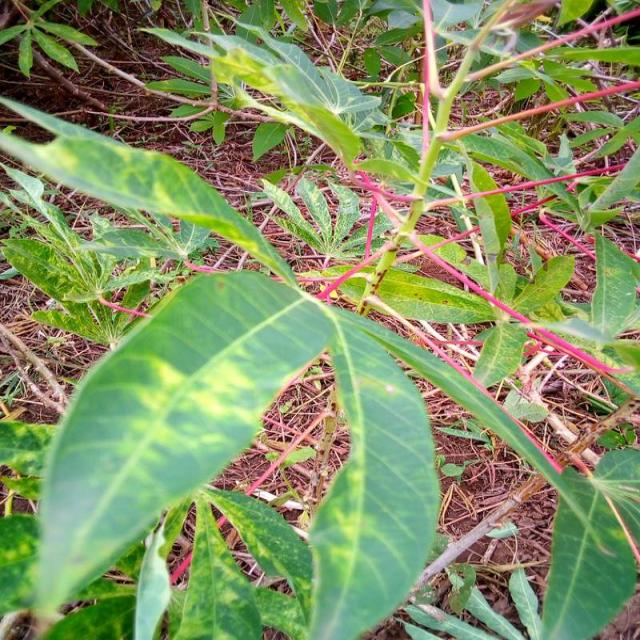cassava leaf: (31, 268, 334, 616), (306, 303, 440, 638)
